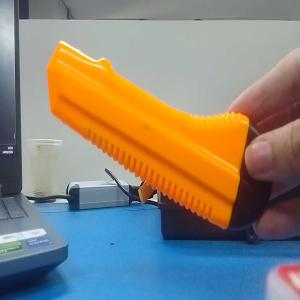estilete: (46, 40, 258, 230)
